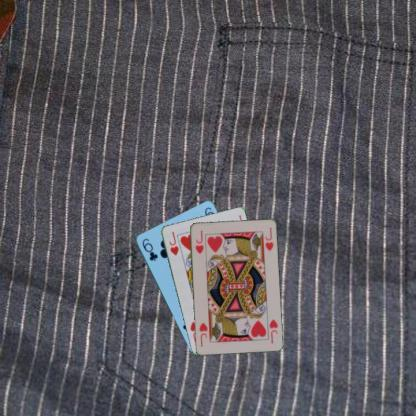6c: (139, 236, 159, 262)
Jh: (166, 229, 180, 256), (266, 316, 279, 344), (192, 228, 204, 255)
